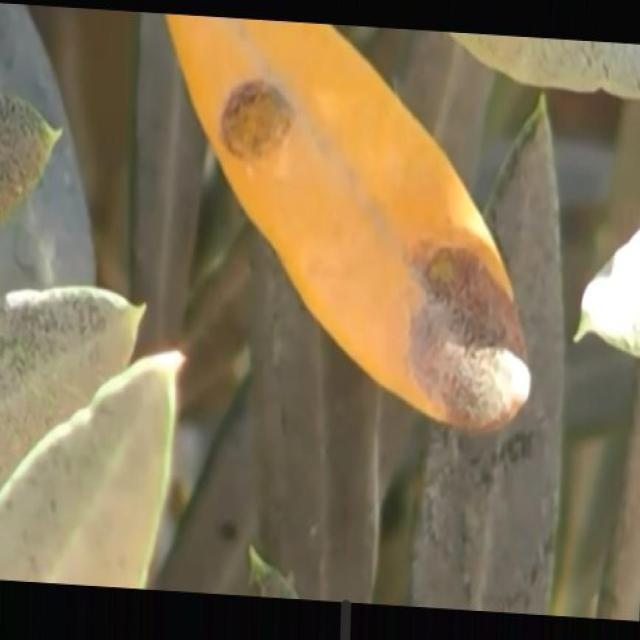OlivePeacockSpot: (169, 16, 530, 429)
